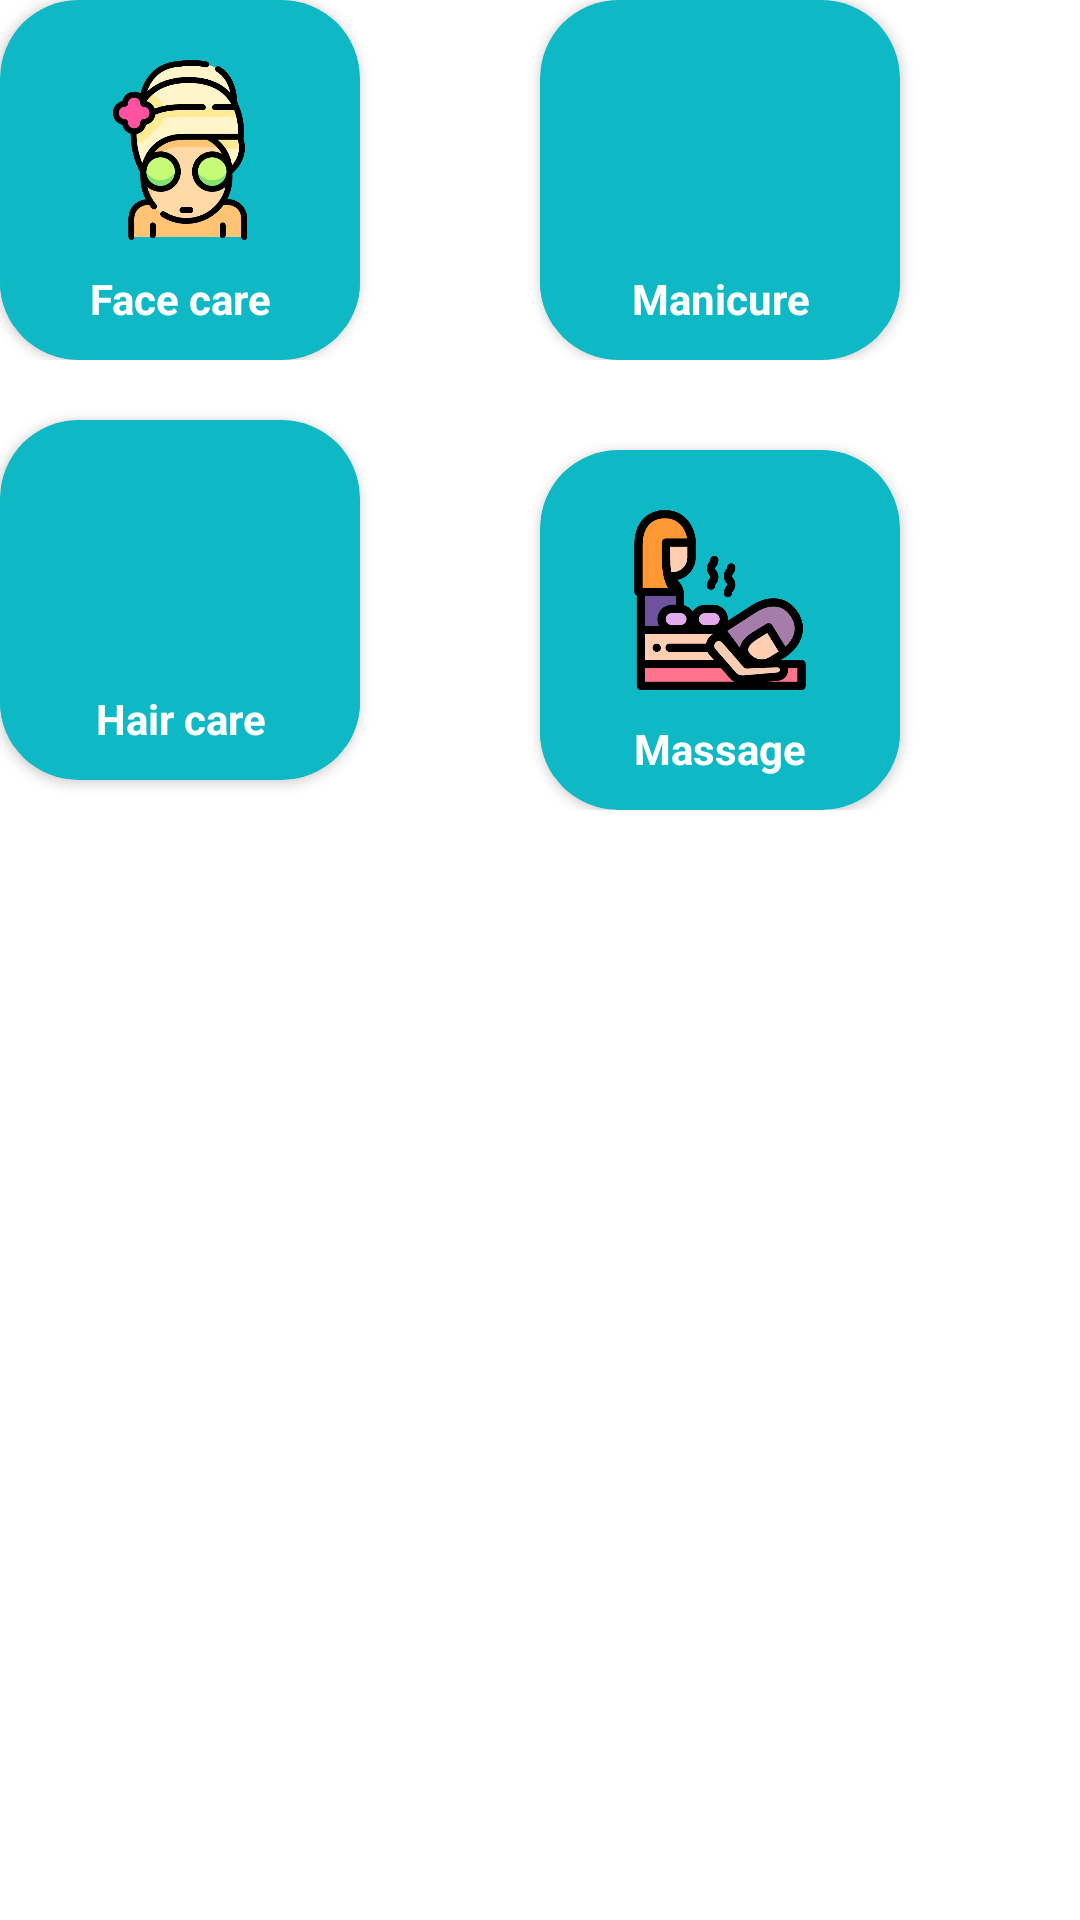

Named icons in this screenshot (1080w x 1920h) and their centers, (x=x, y=y):
facemask: (x=180, y=150)
